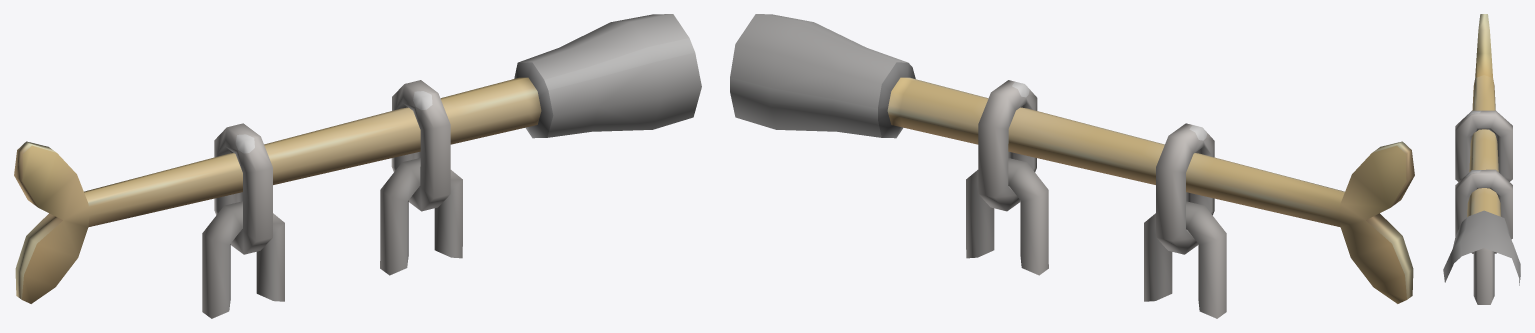
Rendered from PartySupplySignHolder_1.glb.
3 views of the same model, side by side, from view 1: azimuth 30°, elevation 25°; view 2: azimuth 150°, elevation 25°; view 3: azimuth 270°, elevation 25° (orthographic). The views are drawn at different scales.
Parts seen in each view (by area): view 1: PartySupplySignHolder; view 2: PartySupplySignHolder; view 3: PartySupplySignHolder.
Part boxes in pixels (box(x1,y1,x2,y2)): PartySupplySignHolder: box(14, 14, 701, 318); PartySupplySignHolder: box(730, 14, 1414, 318); PartySupplySignHolder: box(1443, 14, 1520, 304).
Size of the model in its own units: 1.47 by 0.4635 by 0.2203.
